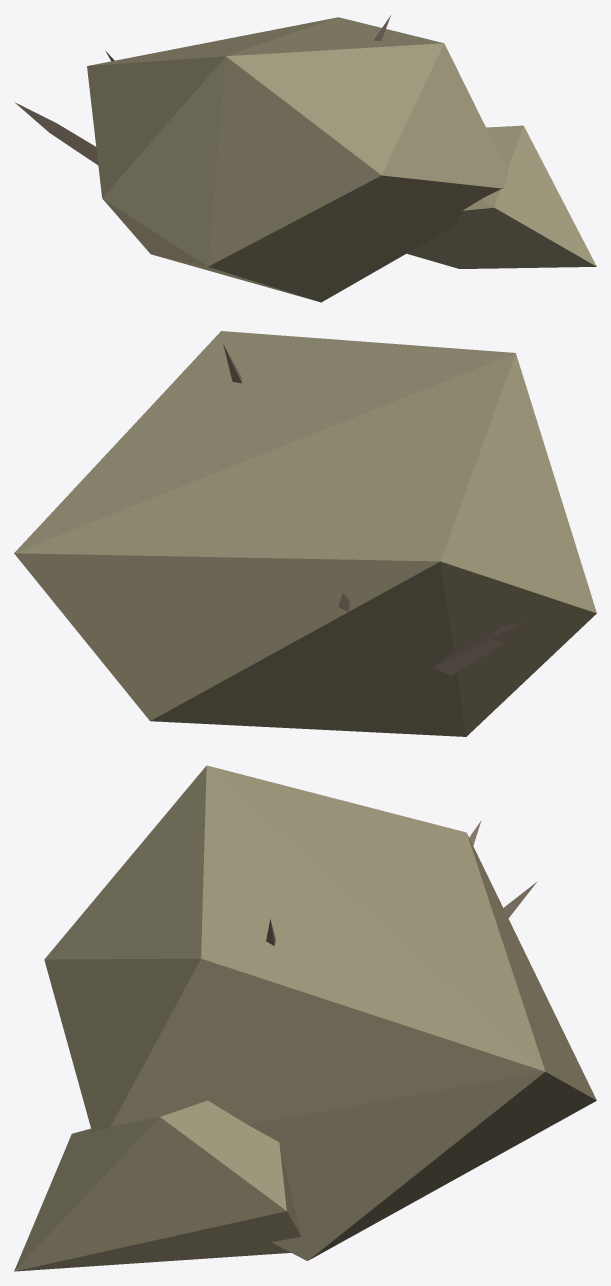
File: prop_desert_scrub_1.glb
3 renders of one model, top to bottom at view 1: azimuth 30°, elevation 25°; view 2: azimuth 150°, elevation 25°; view 3: azimuth 270°, elevation 25°, orthographic. The views are drawn at different scales.
Parts seen in each view (by area): view 1: Body; view 2: Body; view 3: Body.
Boxes of the visible parts, bbox=[...] form: Body: bbox=[15, 15, 596, 302]; Body: bbox=[14, 331, 596, 736]; Body: bbox=[14, 765, 596, 1271].
Bounding box in the file's own units: 0.8159 × 0.4809 × 0.7288.
